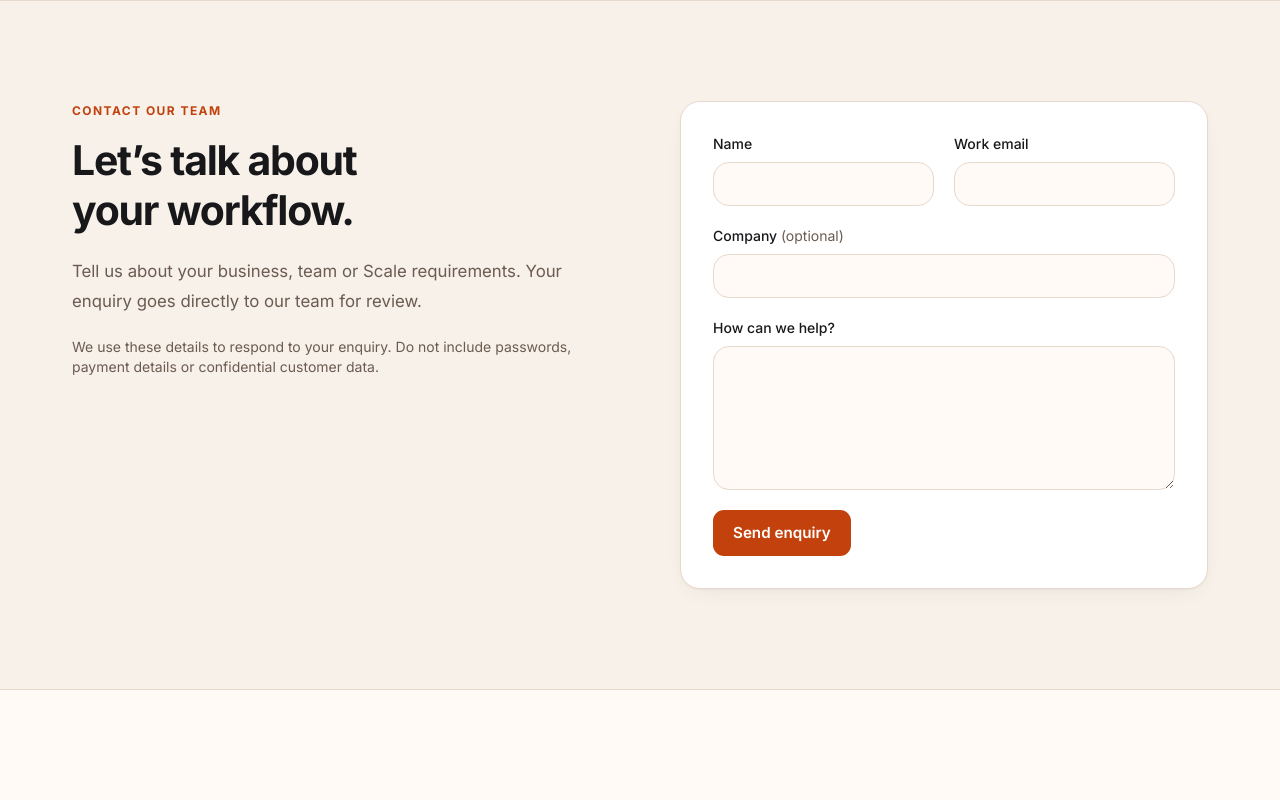
it: Contact form › recovers from TimeoutError without clearing input
Type "Alex Example" into the field labelled "Name" at (824, 184), box [713,162,934,206]
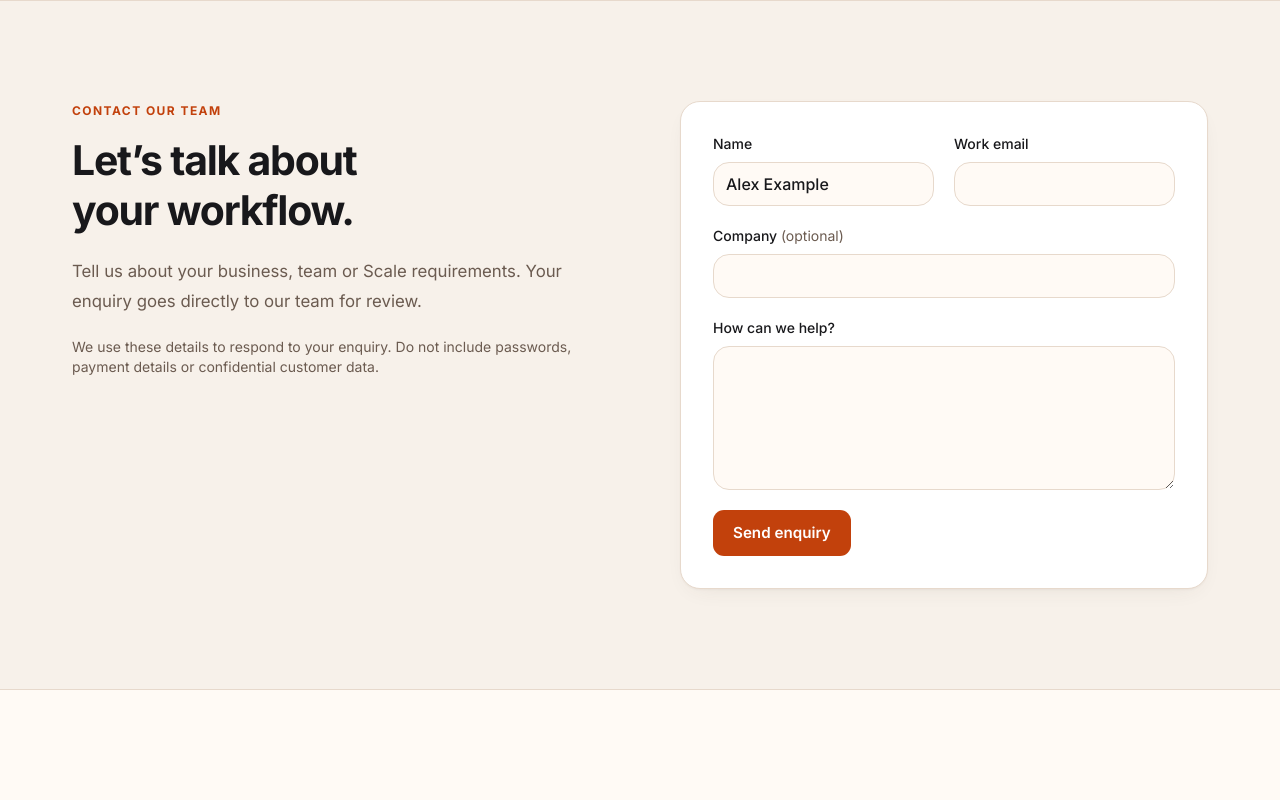
Type "alex@example.com" into the field labelled "Work email" at (1064, 184), box [954,162,1175,206]
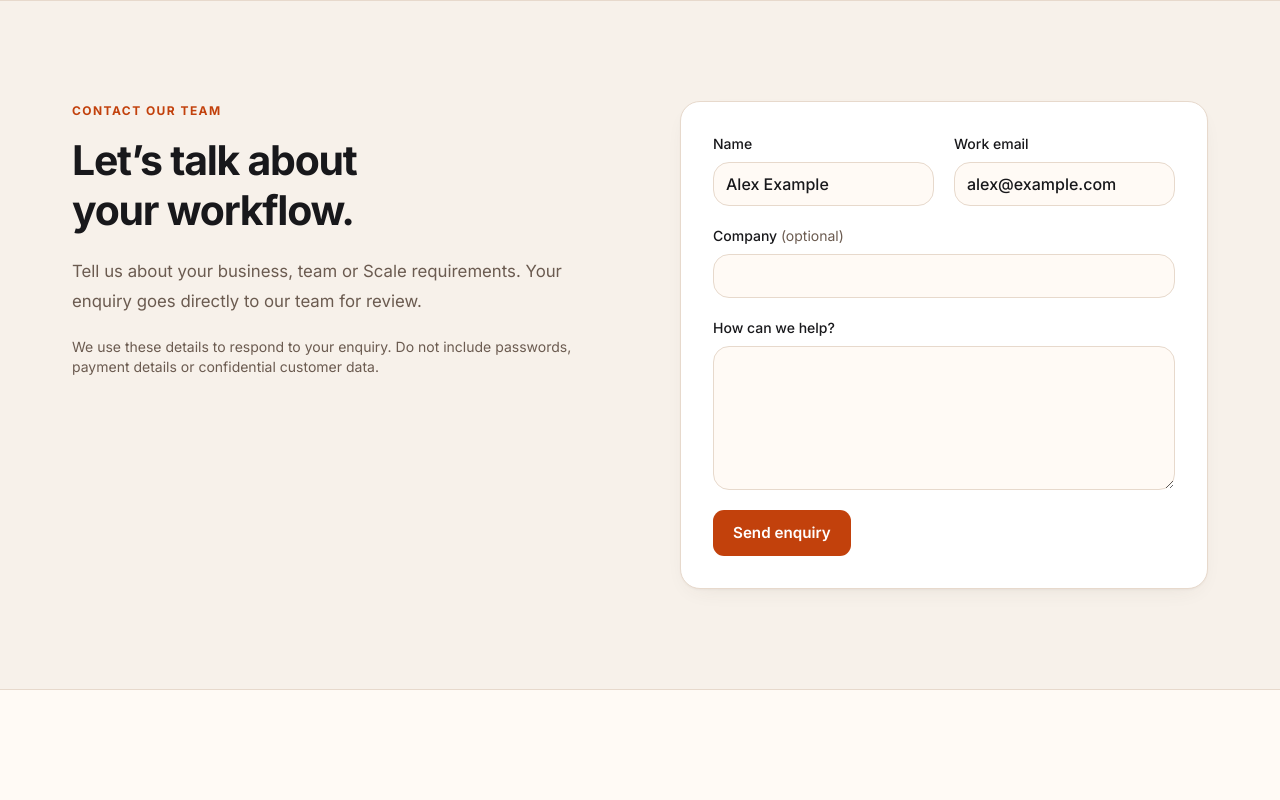
Type "Example Team" into the field labelled "Company (optional)" at (944, 276), box [713,254,1175,298]
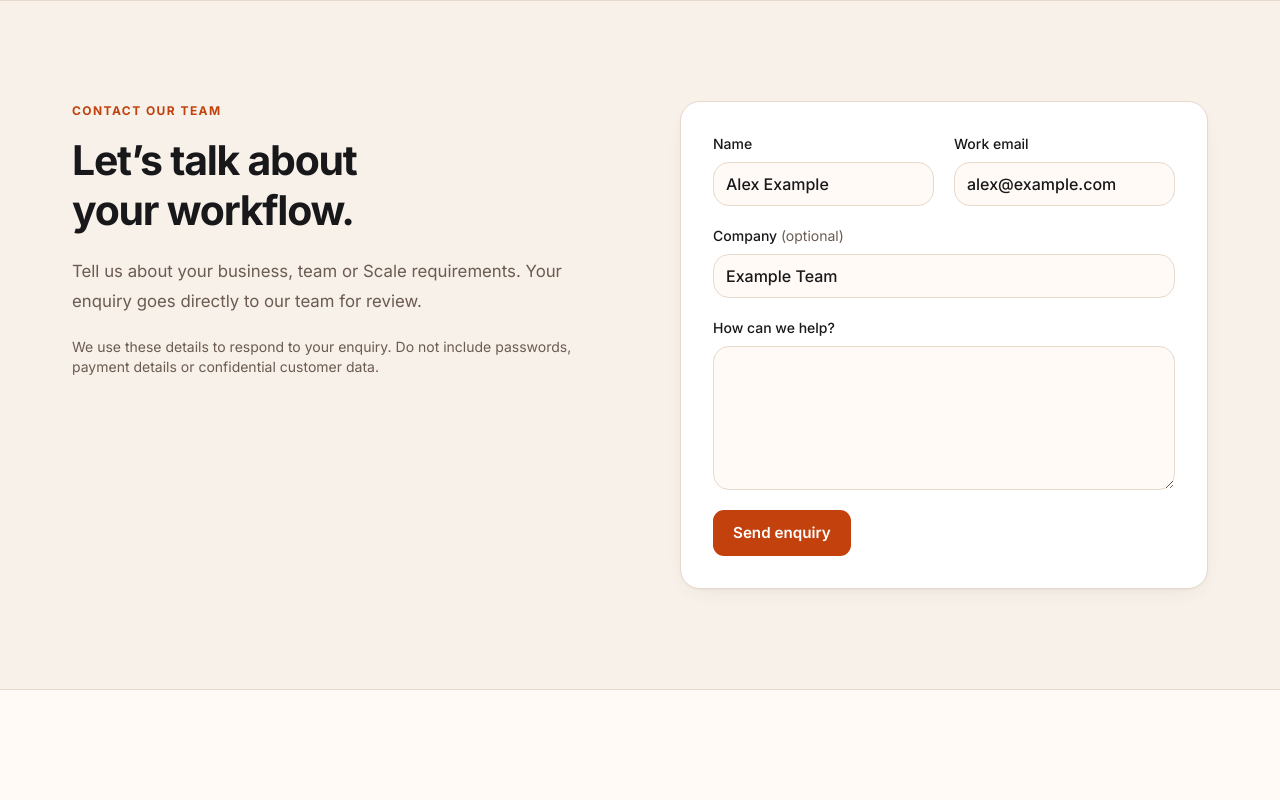
Type "We would like to discuss the Scale plan." into the text box labelled "How can we help?" at (944, 418), box [713,346,1175,490]
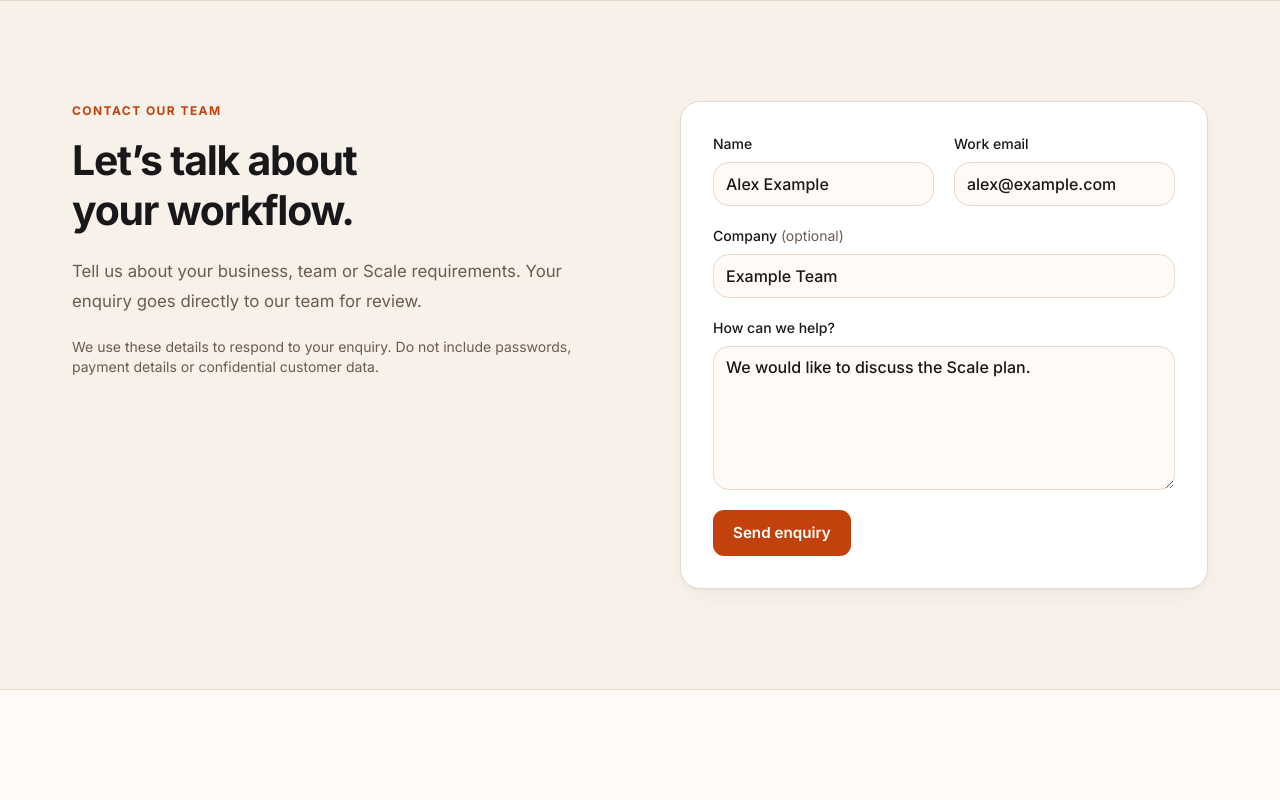
Submit the form "Send enquiry", box [680,101,1208,589]
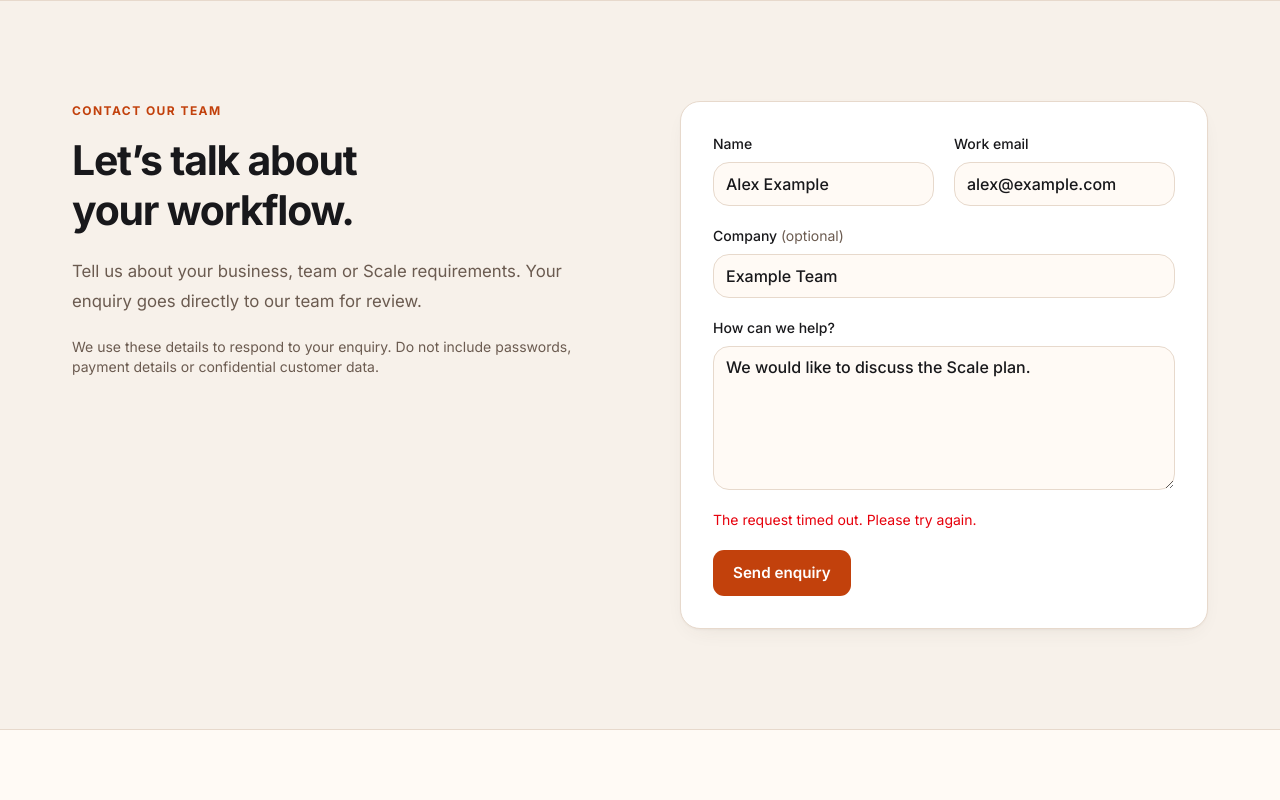
Expected: the button "Send enquiry" is enabled, [713,550,851,596]
Now the message reads "The request timed out. Please try again.", box [713,511,976,528]
